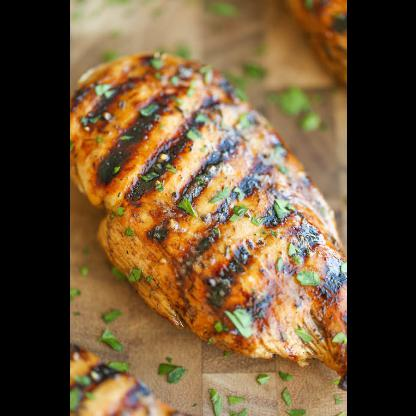grilled chicken breast: (69, 52, 345, 376), (69, 341, 185, 415), (284, 0, 346, 91)
